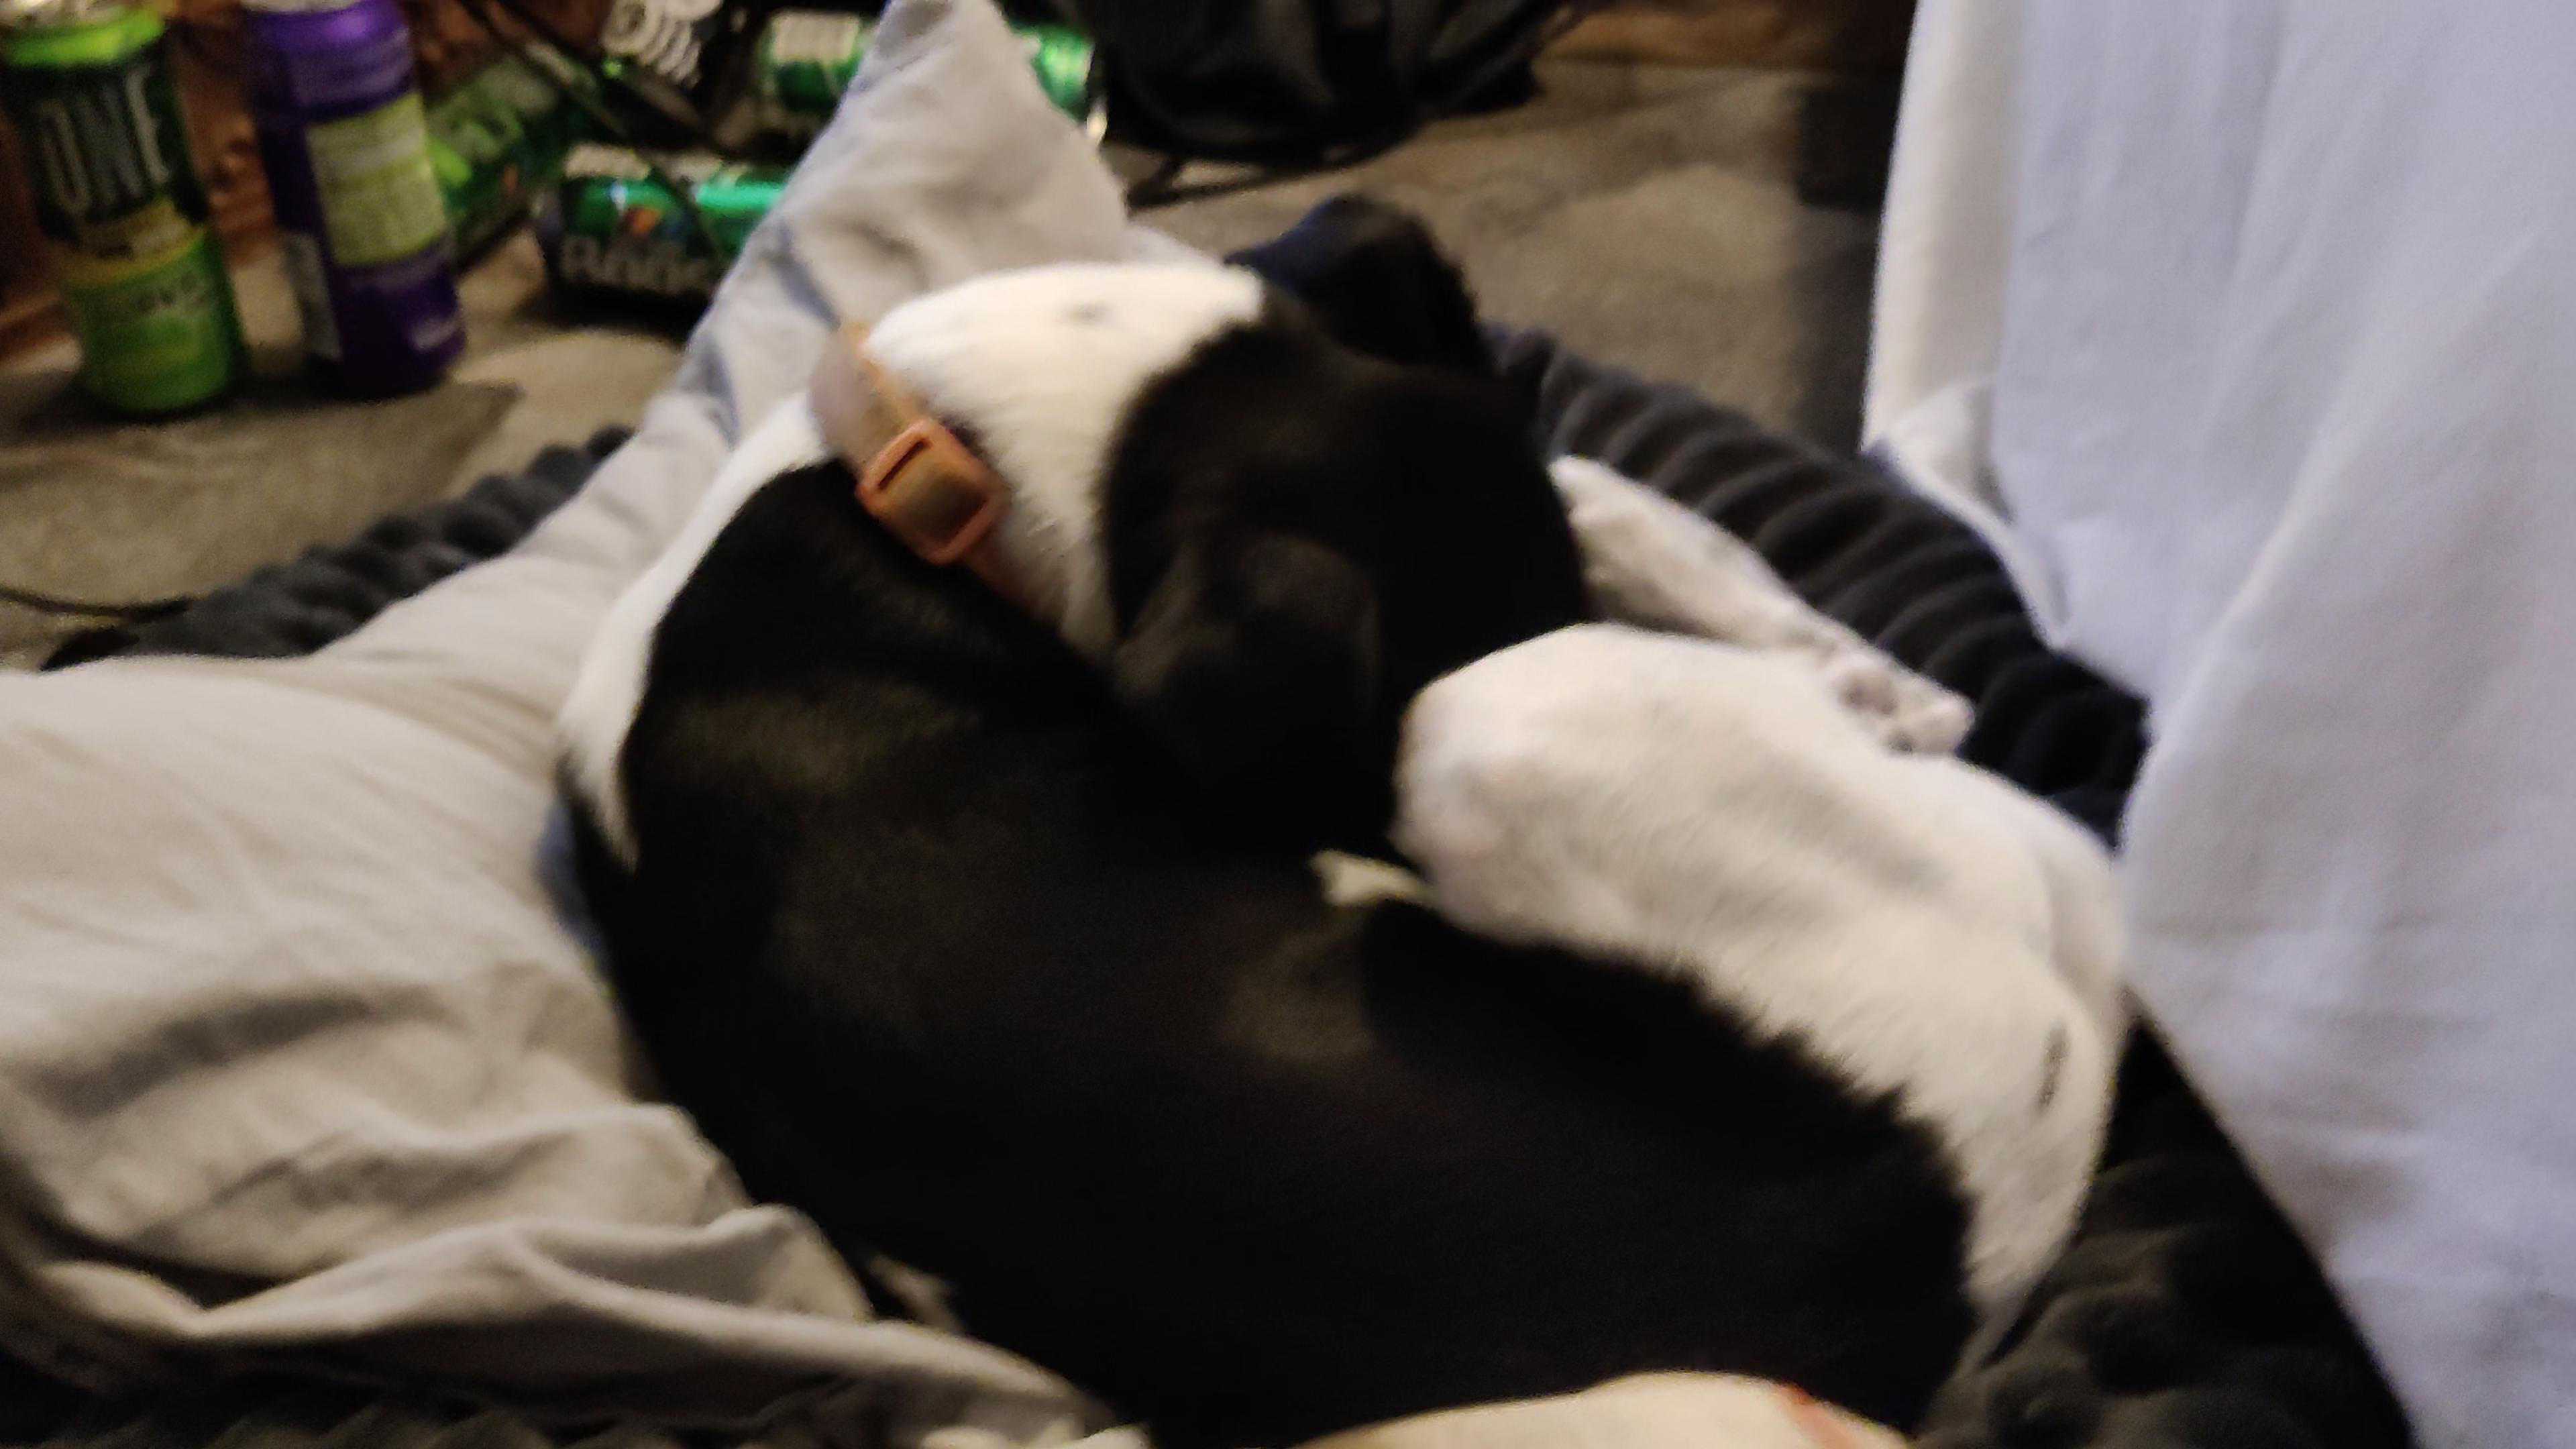Dog: (531, 179, 2158, 1449)
